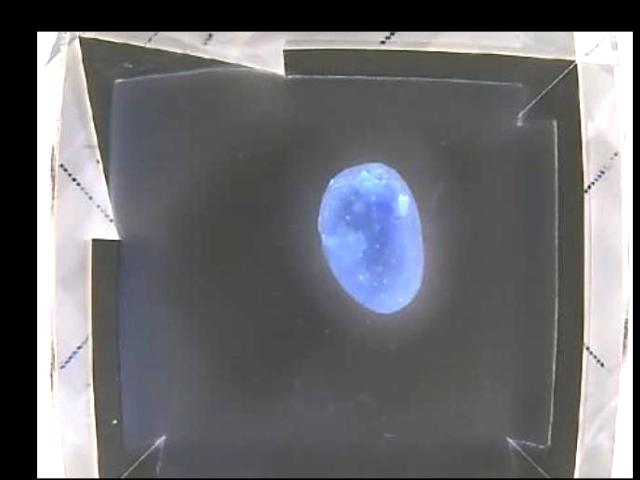Potato: (315, 161, 423, 314)
